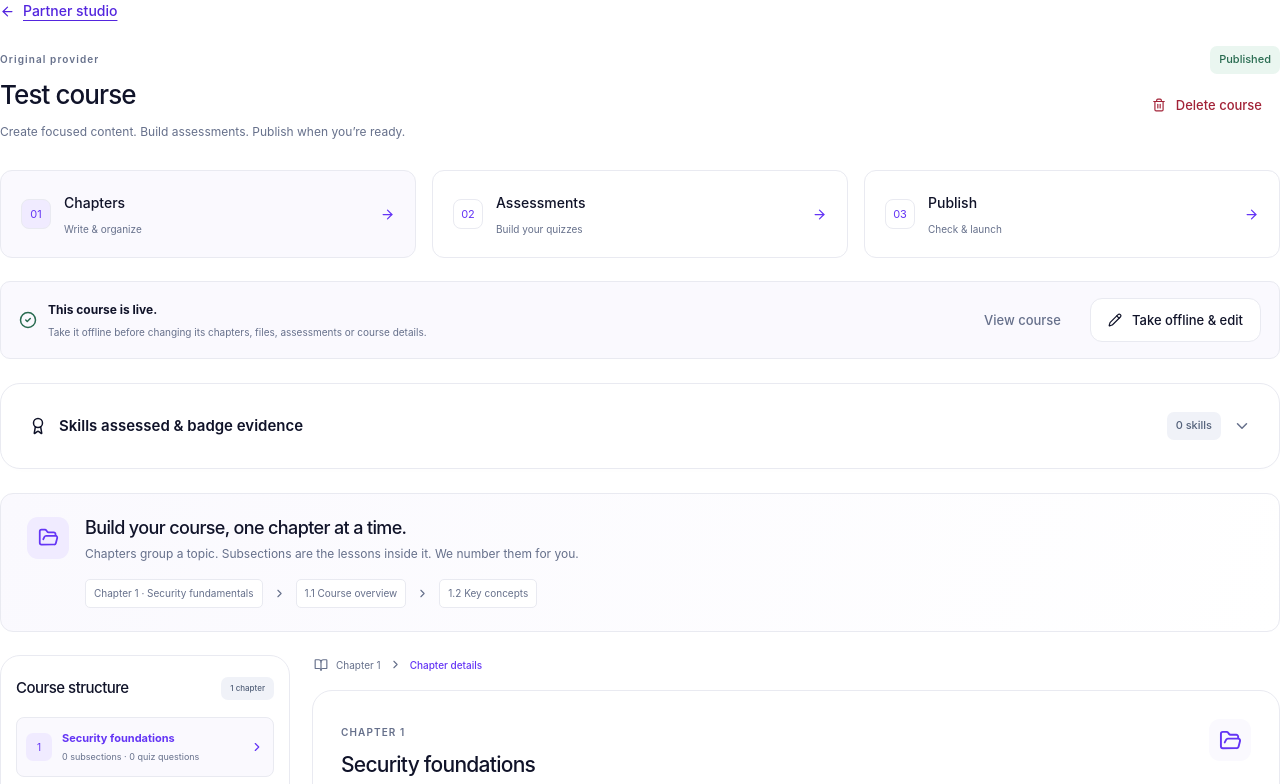
Test: PDF and video learning materials › takes a published course offline before reopening the editor
This screenshot has width=1280, height=784.
Click the button "Take offline & edit" at (1176, 320), box [1090,298,1261,342]
(page scrolled)
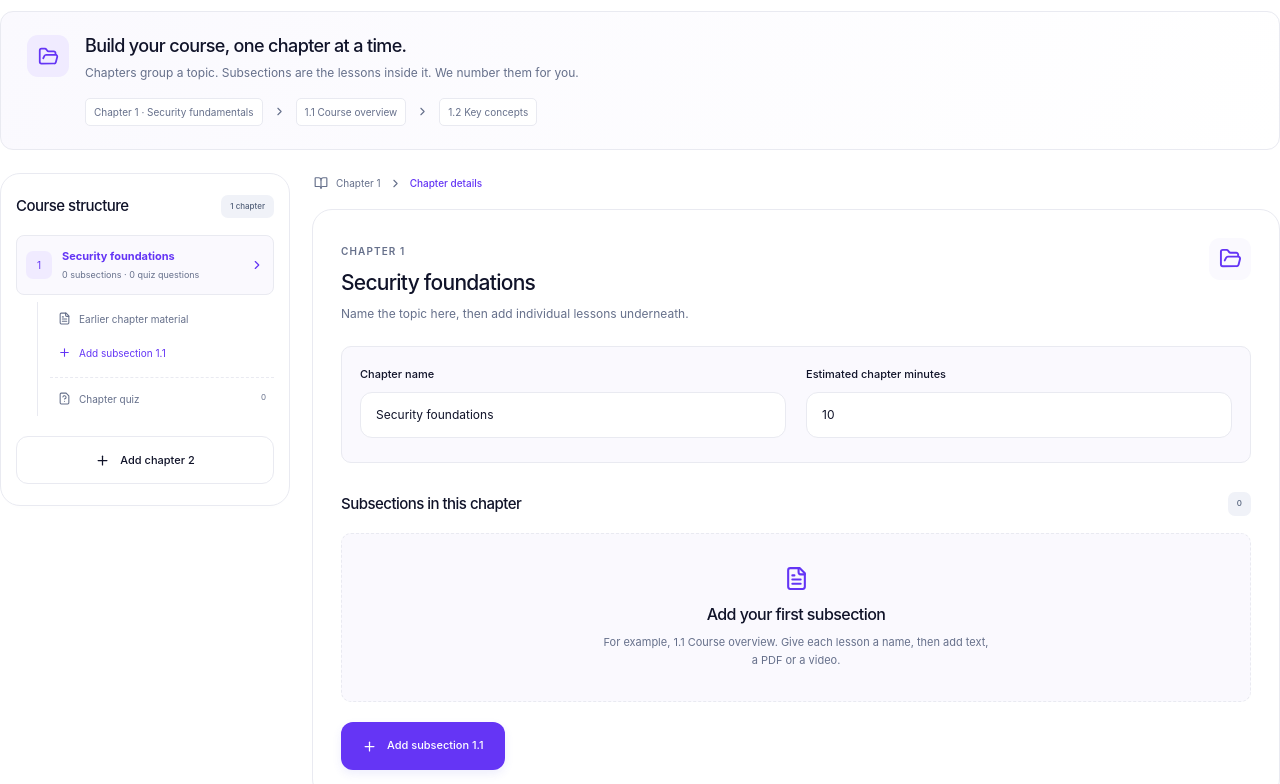
Expected: the button "Add chapter 2" is enabled, [16,436,274,484]
